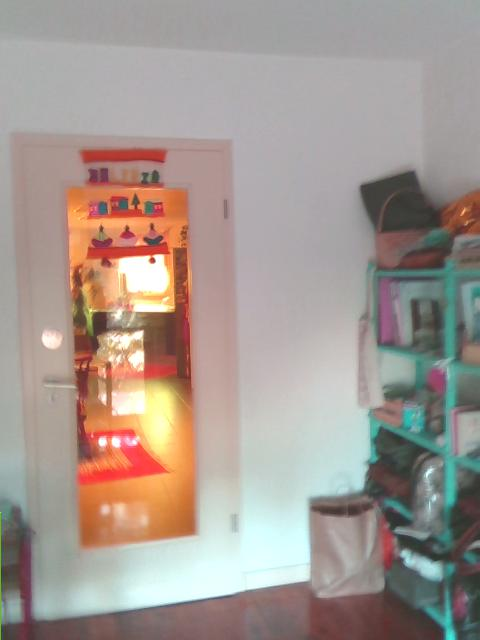closed_door: (6, 132, 242, 616)
